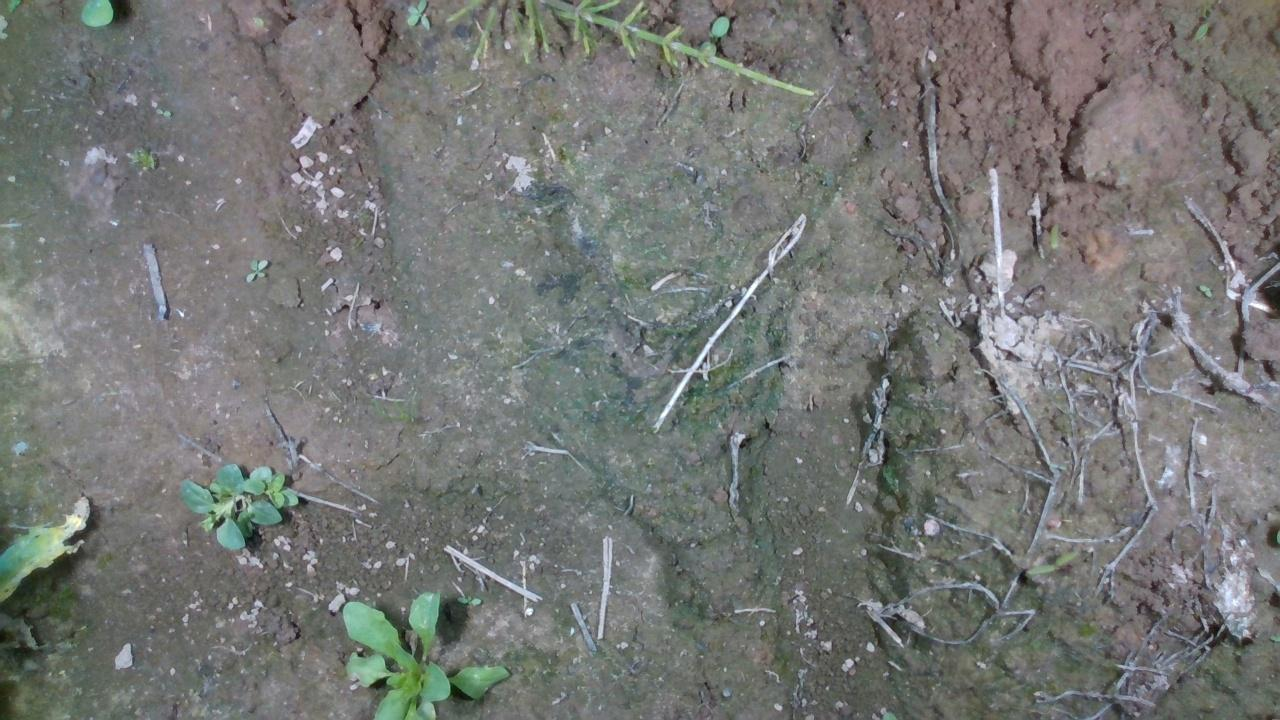weed: (119, 139, 157, 177), (243, 253, 270, 282)
